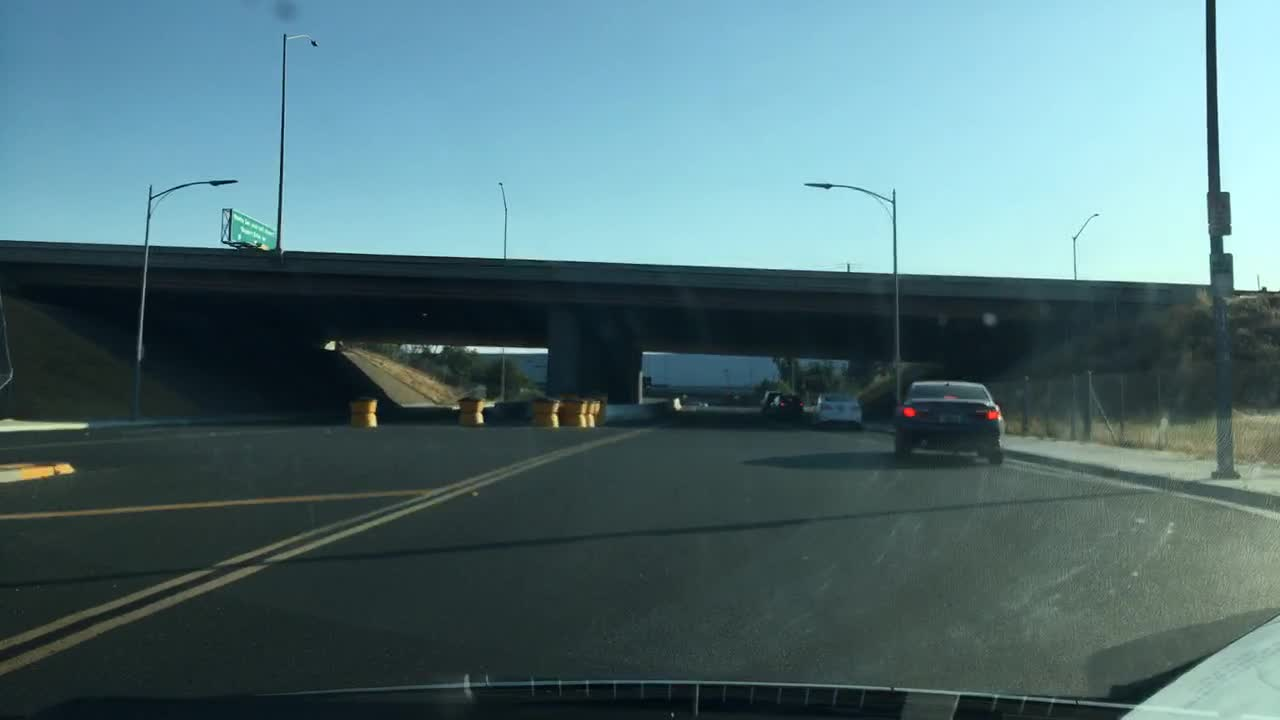car: (890, 380, 1011, 468), (814, 389, 868, 431), (767, 392, 807, 418), (754, 388, 783, 407)
traffic sign: (219, 204, 280, 254), (1207, 253, 1236, 298), (1207, 192, 1233, 238)
